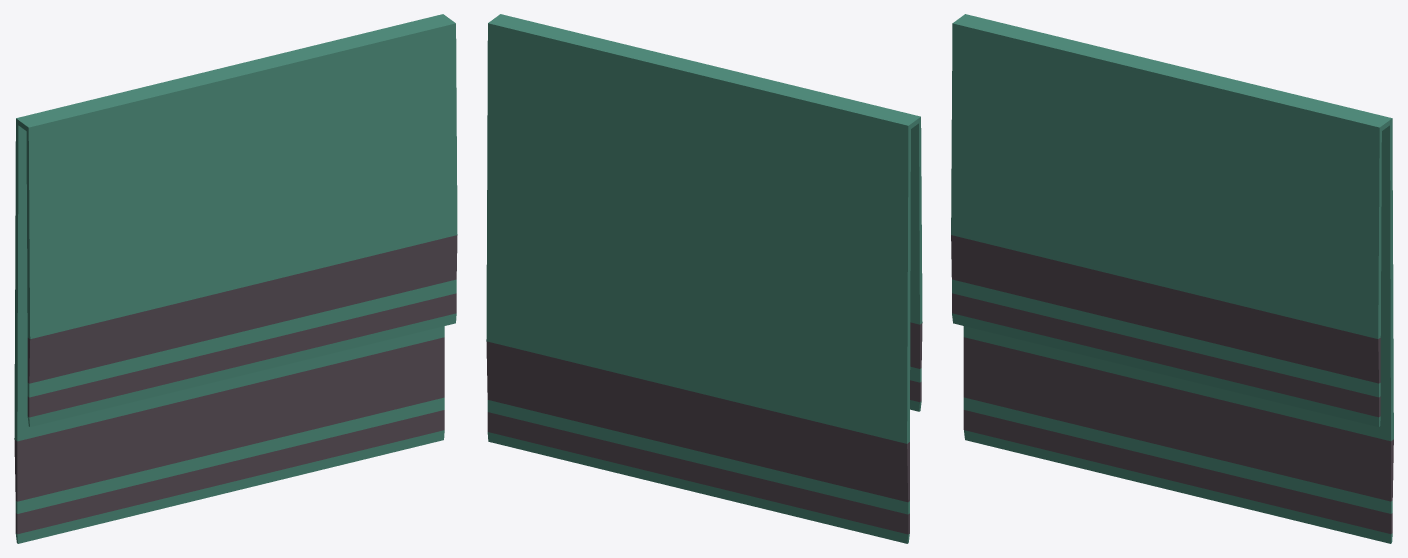
The model's file is Towel_2.fbx.
The picture shows the model from 3 angles, left to right: view 1: azimuth 30°, elevation 25°; view 2: azimuth 150°, elevation 25°; view 3: azimuth 330°, elevation 25°; orthographic projection.
Visible parts, largest first — view 1: polySurface2204; view 2: polySurface2204; view 3: polySurface2204.
Part boxes in pixels (<box>): polySurface2204: <box>14,14,457,543</box>; polySurface2204: <box>486,14,922,543</box>; polySurface2204: <box>951,14,1393,543</box>.
Bounding box in the file's own units: 1.07 × 1.01 × 0.0679.
Materials: 1 (1 with a texture image).
